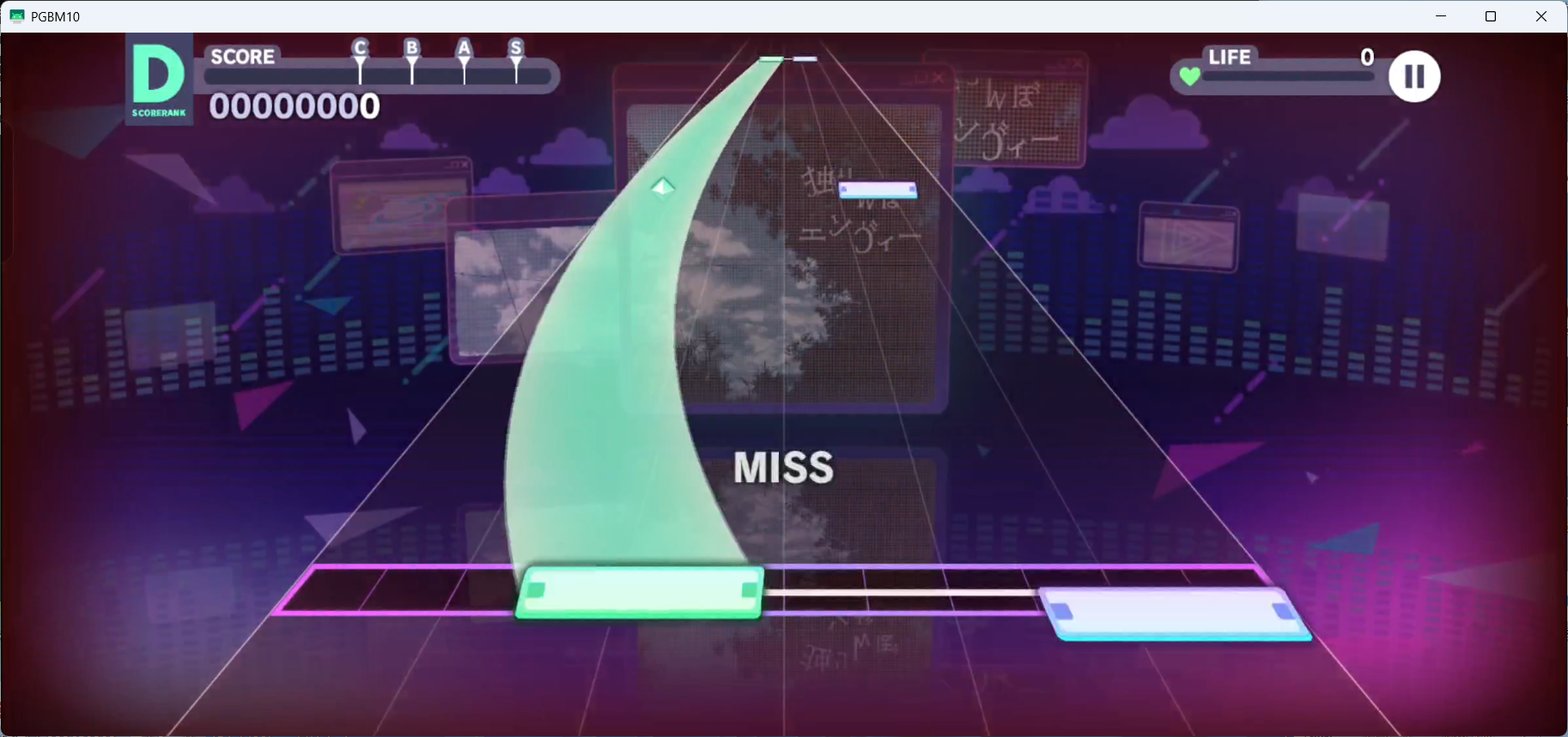hold: (502, 62, 781, 567)
sweep: (651, 175, 676, 201)
tap: (1037, 586, 1314, 642), (514, 566, 765, 619), (838, 181, 918, 199), (759, 56, 784, 62), (793, 56, 818, 62)
